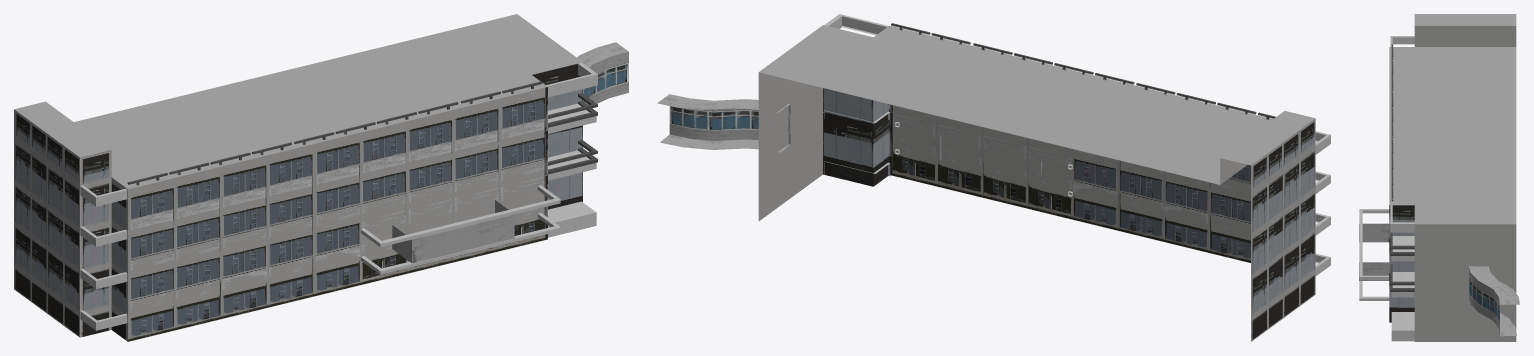
Rendered from macleod_bldg.obj.
3 renders of one model, left to right at view 1: azimuth 30°, elevation 25°; view 2: azimuth 150°, elevation 25°; view 3: azimuth 270°, elevation 25°, orthographic. The views are drawn at different scales.
Parts seen in each view (by area): view 1: Macleod_Bldg_1_Mesh.001; view 2: Macleod_Bldg_1_Mesh.001; view 3: Macleod_Bldg_1_Mesh.001.
Boxes of the visible parts, x1,y1,x2,y2 form: Macleod_Bldg_1_Mesh.001: (14, 14, 628, 341); Macleod_Bldg_1_Mesh.001: (657, 14, 1330, 341); Macleod_Bldg_1_Mesh.001: (1359, 14, 1519, 341).
Bounding box in the file's own units: 0.0649 × 0.0185 × 0.0194.
